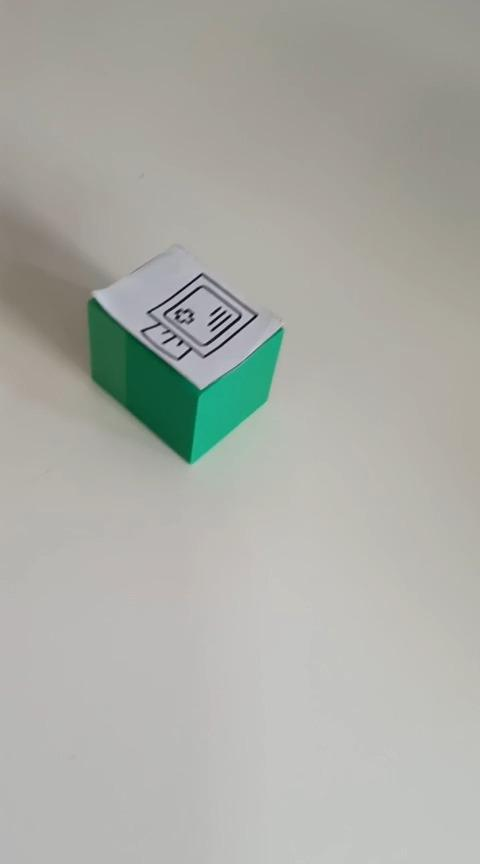Gauze: (86, 241, 285, 464)
